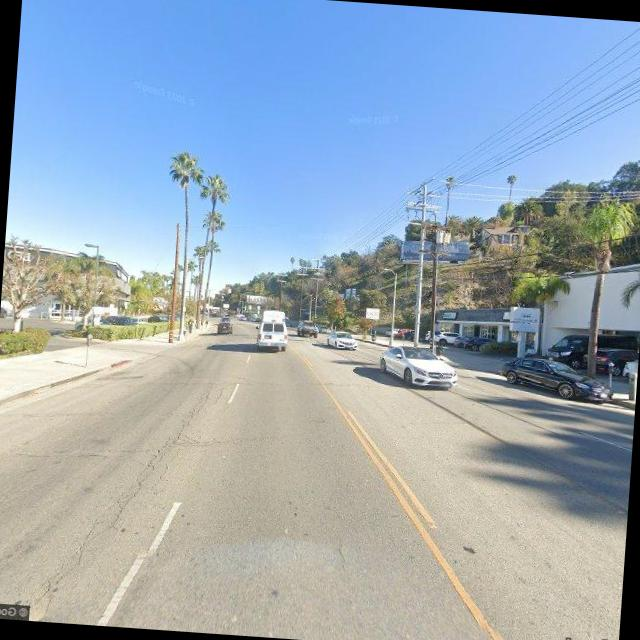crack: (32, 356, 220, 630)
